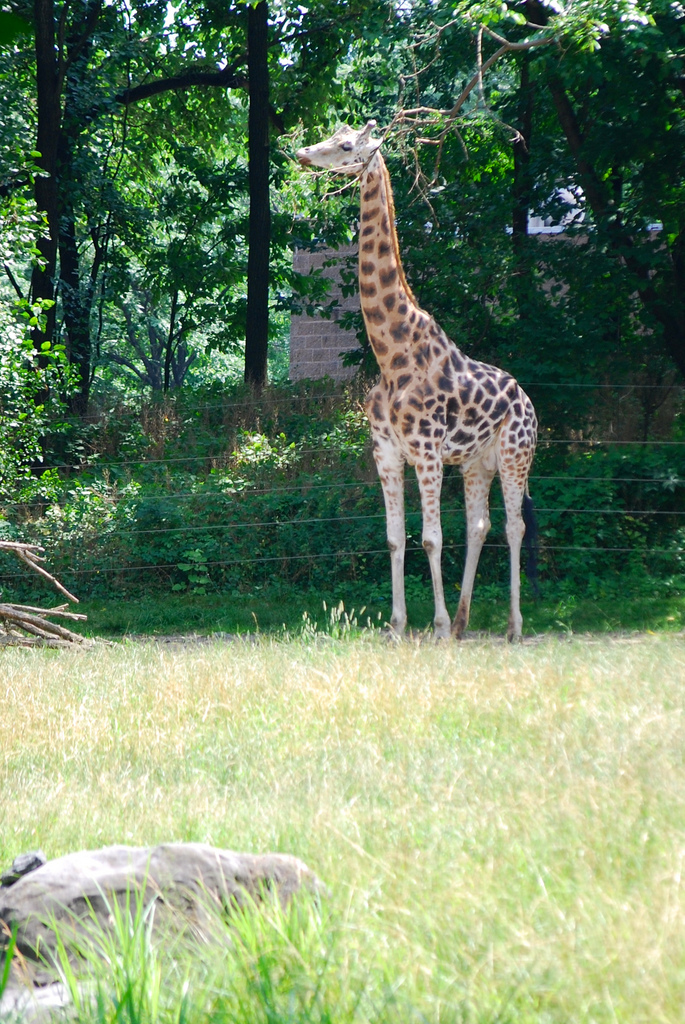giraffe: (276, 97, 567, 664)
